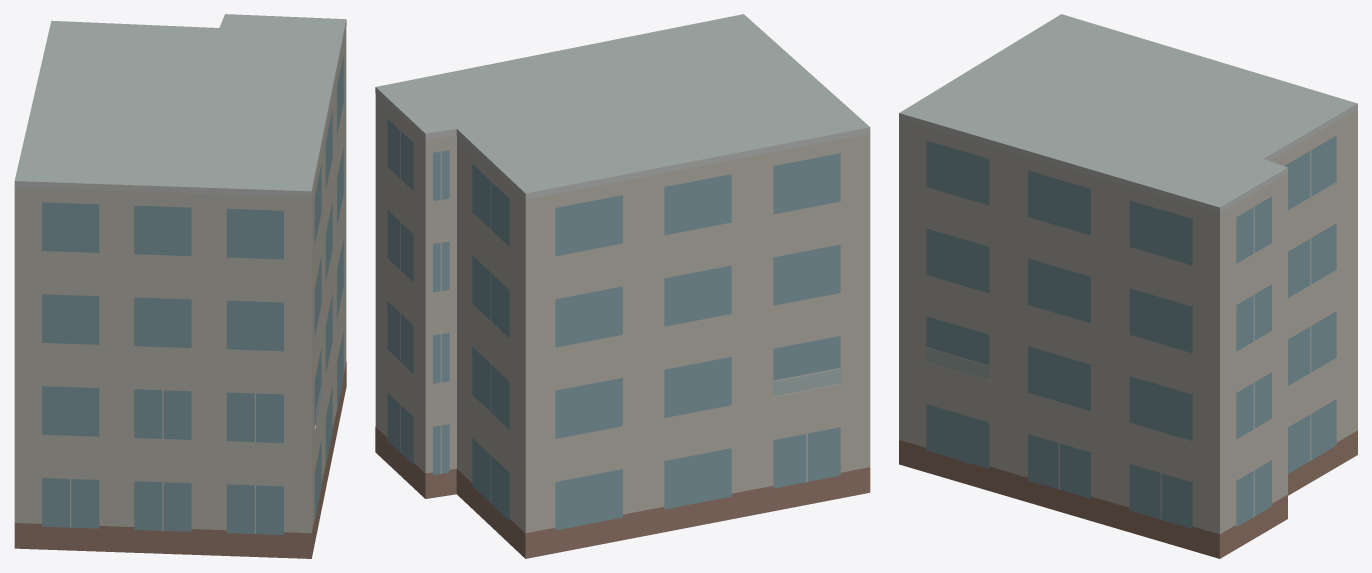
Rendered from survey-upis-32911945.glb.
3 renders of one model, left to right at view 1: azimuth 30°, elevation 25°; view 2: azimuth 150°, elevation 25°; view 3: azimuth 270°, elevation 25°, orthographic. The views are drawn at different scales.
Parts seen in each view (by area): view 1: survey-upis-32911945.tmp; view 2: survey-upis-32911945.tmp; view 3: survey-upis-32911945.tmp.
Part boxes in pixels (x1=…): survey-upis-32911945.tmp: x1=14, y1=14, x2=346, y2=558; survey-upis-32911945.tmp: x1=375, y1=14, x2=870, y2=558; survey-upis-32911945.tmp: x1=899, y1=14, x2=1357, y2=558.
Size of the model in its own units: 16.84 by 14.25 by 16.87.
